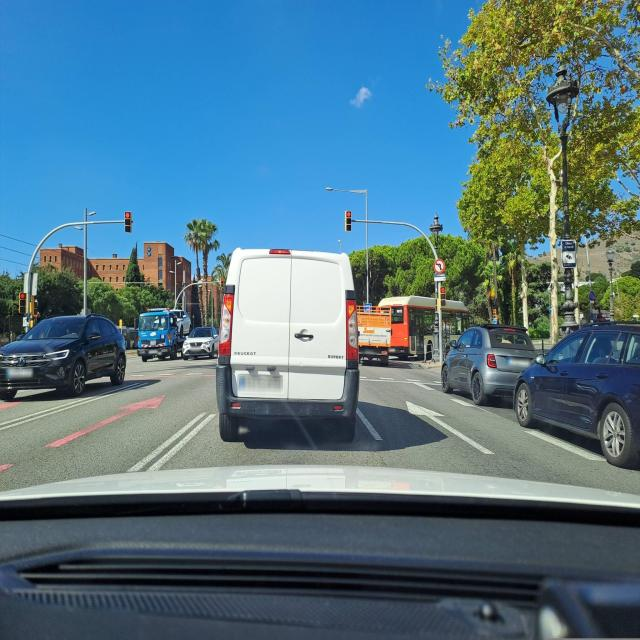forb_stopping: (589, 290, 596, 301)
